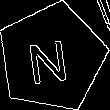N_N: (28, 30, 75, 85)
